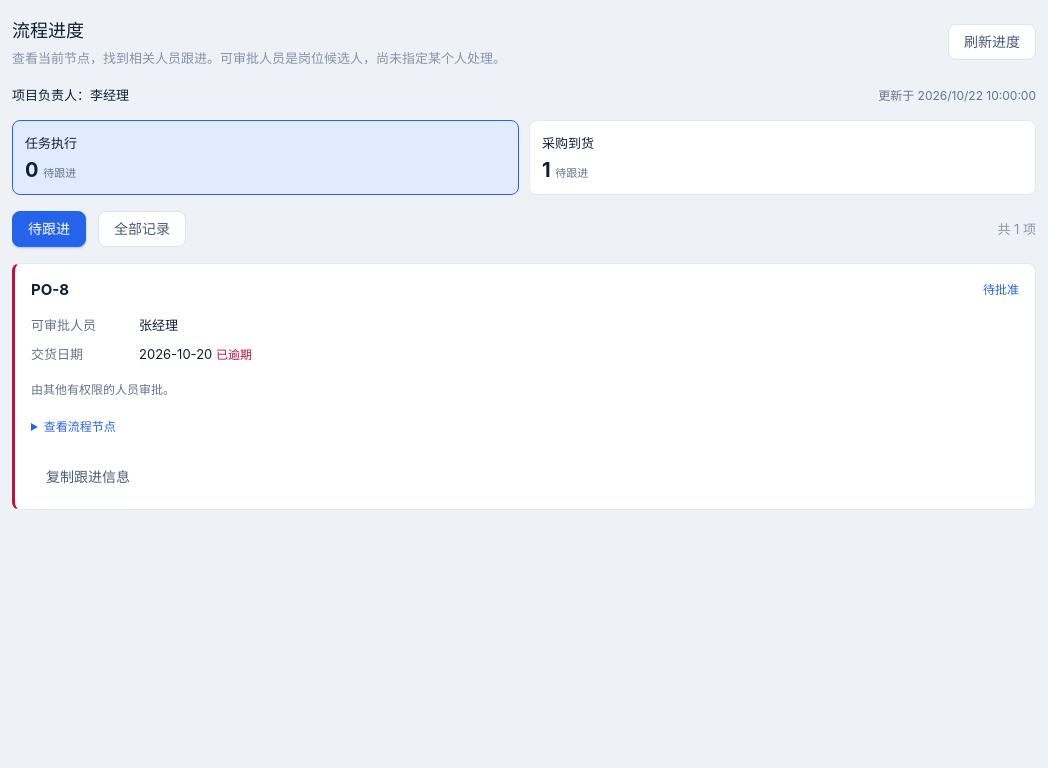
it: 流程相关人员进度展示 › 显示姓名、审批候选、期限和完整节点，受限人员没有原单入口
The width and height of the screenshot is (1048, 768).
What coordinates should you click on to do the following:
click the heading "查看流程节点"
I would click on:
 (80, 426)
Its box is [44,419,116,434].
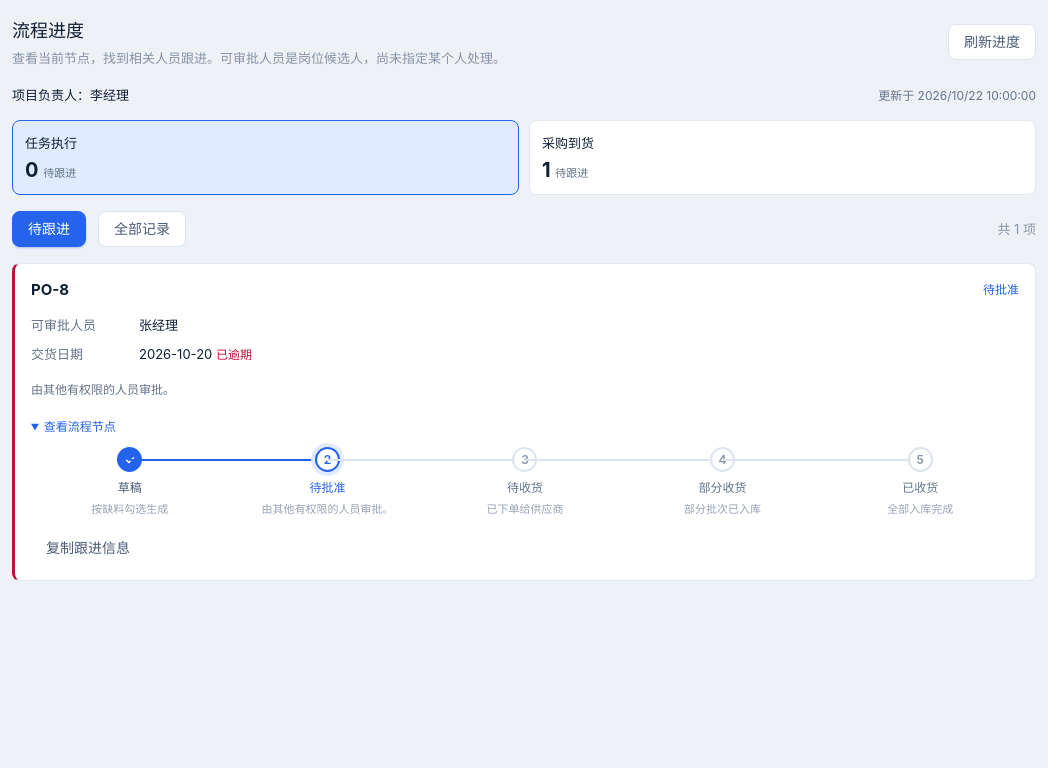
Expected: the list item "2 待批准 由其他有权限的人员审批。" is shown, [261,447,393,516]
